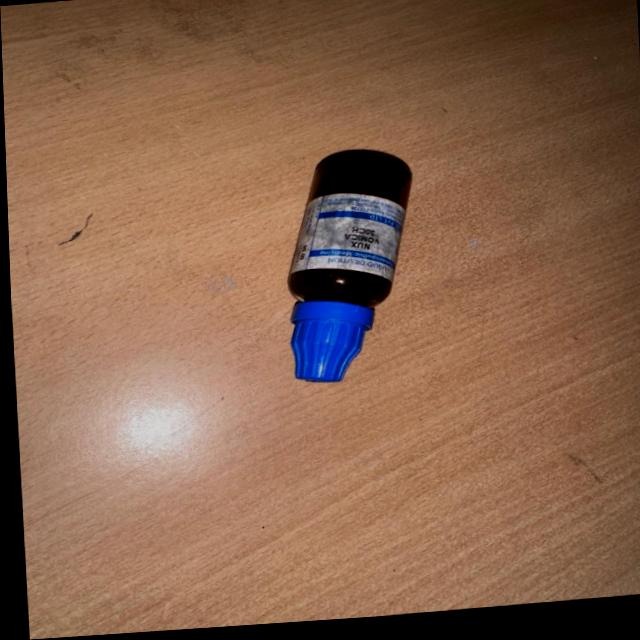medicine: (242, 151, 436, 399)
